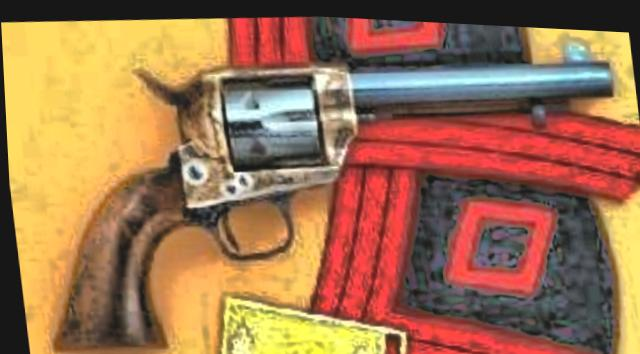pistol: (12, 8, 640, 354)
